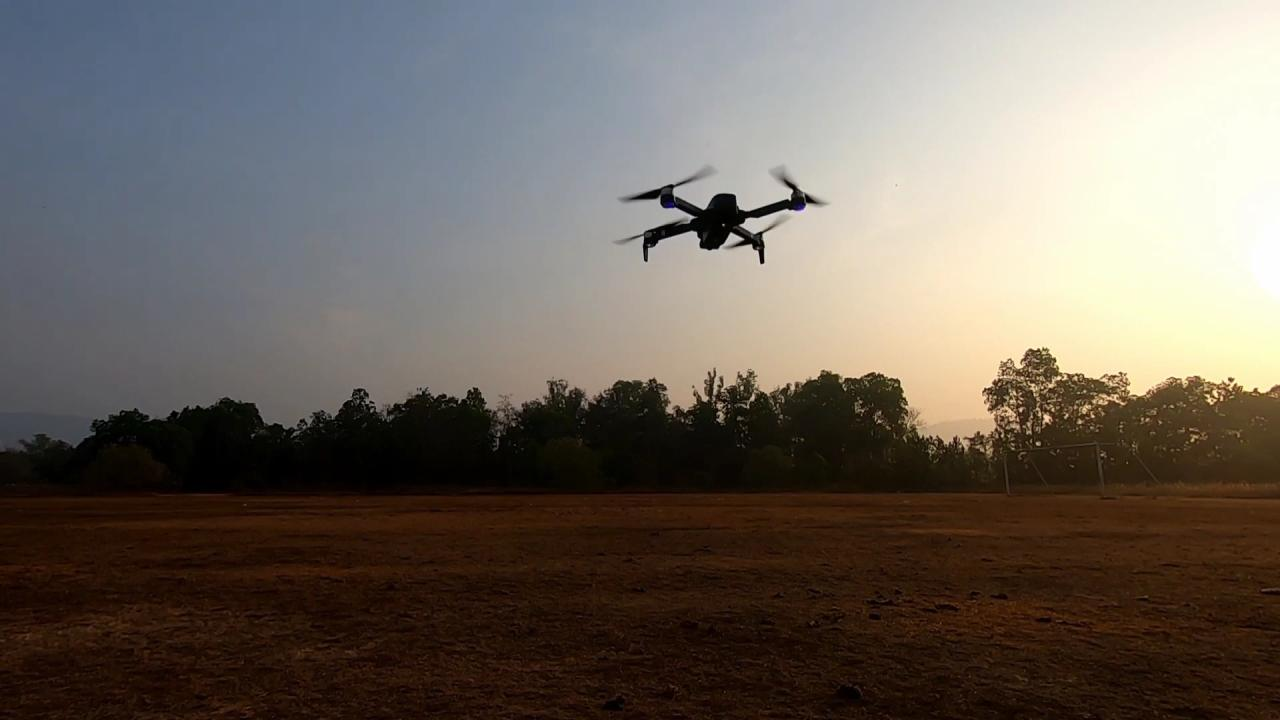Drone: (598, 151, 839, 274)
